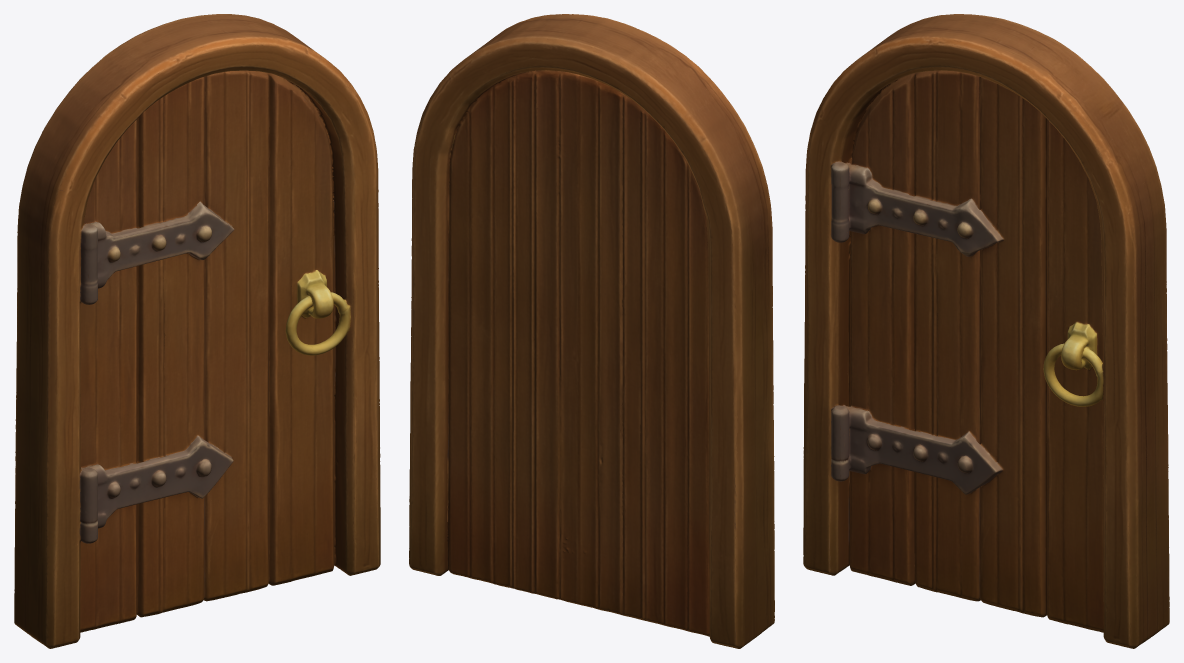
The model's file is house_door.glb.
3 renders of one model, left to right at view 1: azimuth 30°, elevation 25°; view 2: azimuth 150°, elevation 25°; view 3: azimuth 330°, elevation 25°, orthographic.
Size of the model in its own units: 0.6162 by 1 by 0.1376.
Materials: 1 (1 with a texture image).
